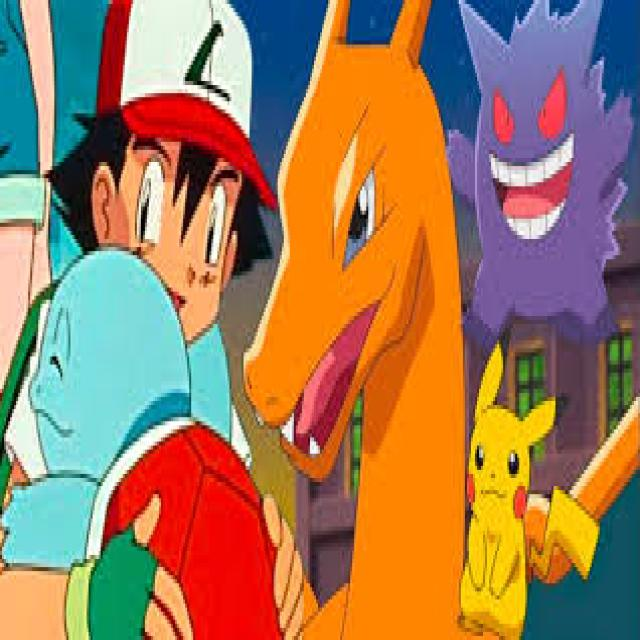Charizard: (229, 6, 497, 640)
Gengar: (471, 8, 614, 330)
Pikachu: (460, 392, 538, 639)
Squirtle: (35, 245, 278, 640)
